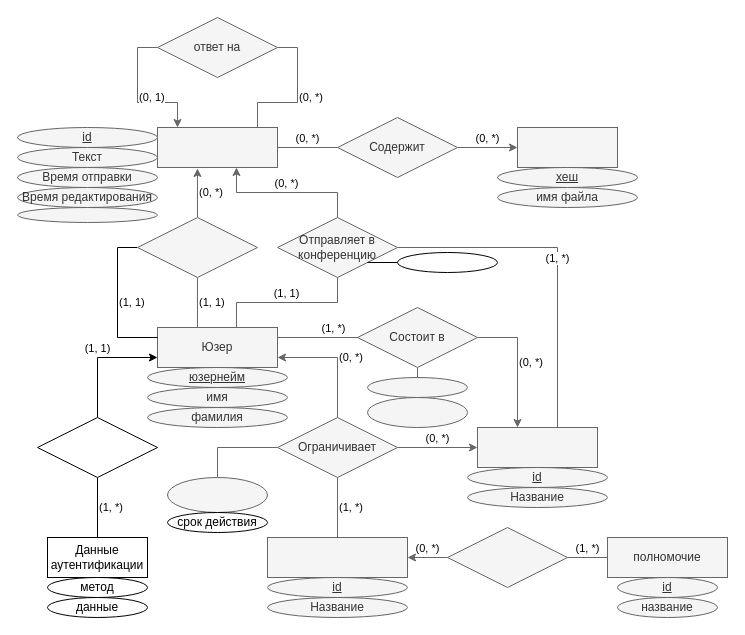
Some shapes in this 745 by 635 pixel diagram are drawn without their labels. Here are the shapes that lost their labels. From the top down, the centre of each, then its label:
At (x=217, y=147): "Сообщение".
At (x=567, y=147): "Вложение".
At (x=87, y=214): "удалено".
At (x=197, y=247): "Отправляет юзеру".
At (x=447, y=262): "номер".
At (x=417, y=387): "создатель".
At (x=417, y=412): "последнее прочитанное".
At (x=97, y=447): "Подтверждает".
At (x=537, y=447): "Конференция".
At (x=217, y=494): "время назначения".
At (x=337, y=557): "Роль".
At (x=507, y=557): "включается в".
